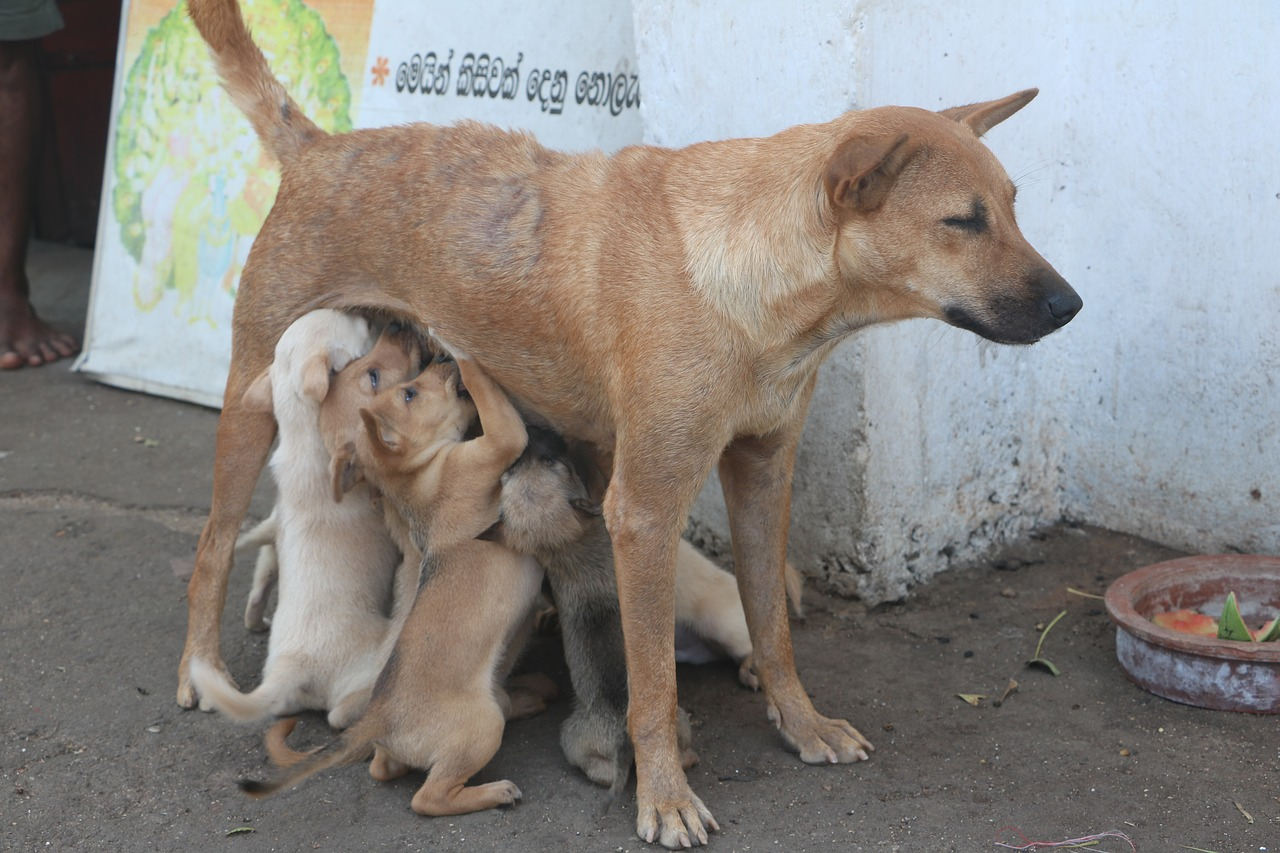Dog: (585, 22, 1129, 812)
